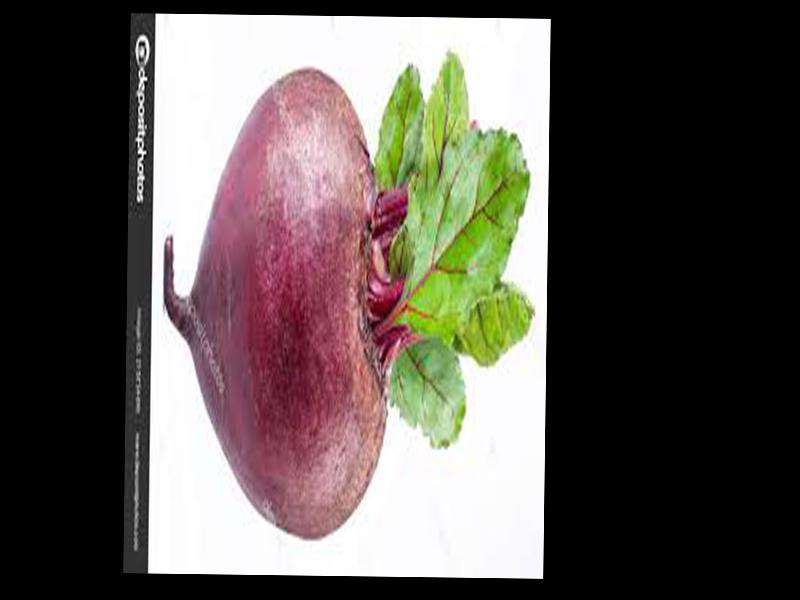Beet: (162, 49, 536, 543)
